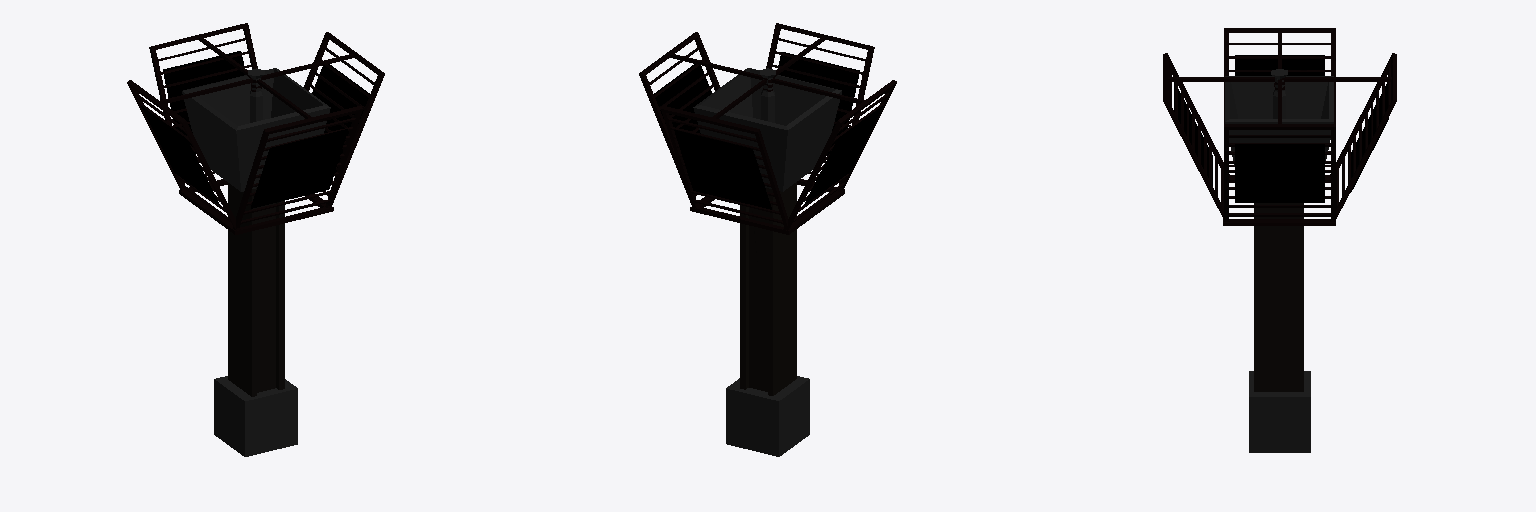
The model's file is AVISO.obj.
3 views of the same model, side by side, from view 1: azimuth 30°, elevation 25°; view 2: azimuth 150°, elevation 25°; view 3: azimuth 270°, elevation 25° (orthographic).
Visible parts, largest first — view 1: Object.1, Object.3, Object.2; view 2: Object.1, Object.2, Object.3; view 3: Object.1, Object.3, Object.2.
Boxes of the visible parts, x1=… form: Object.1: x1=127, y1=23, x2=384, y2=456; Object.3: x1=141, y1=106, x2=219, y2=204; Object.2: x1=163, y1=51, x2=244, y2=154; Object.1: x1=639, y1=23, x2=896, y2=456; Object.2: x1=674, y1=130, x2=771, y2=209; Object.3: x1=804, y1=106, x2=882, y2=204; Object.1: x1=1163, y1=28, x2=1396, y2=452; Object.3: x1=1235, y1=55, x2=1324, y2=75; Object.2: x1=1350, y1=82, x2=1388, y2=192.
Size of the model in its own units: 20 by 34.62 by 19.99.